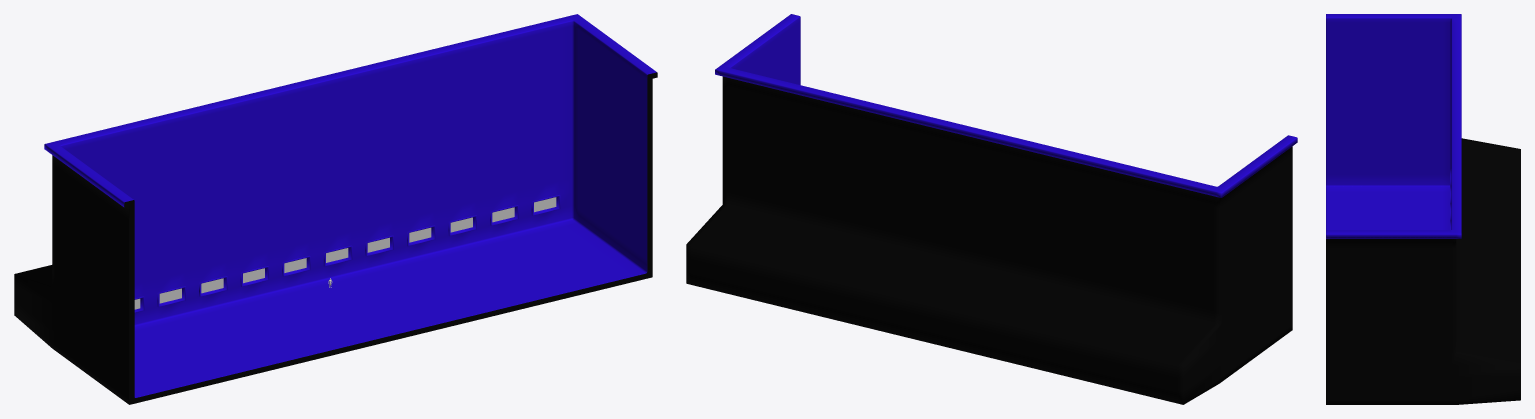
Rendered from PoolBasin 1.fbx.
3 views of the same model, side by side, from view 1: azimuth 30°, elevation 25°; view 2: azimuth 150°, elevation 25°; view 3: azimuth 270°, elevation 25° (orthographic). The views are drawn at different scales.
Parts seen in each view (by area): view 1: Cube; view 2: Cube; view 3: Cube.
Part boxes in pixels (x1,y1,x2,y2): Cube: (14,14,657,404); Cube: (686,14,1297,404); Cube: (1326,14,1520,404).
Size of the model in its own units: 10400 by 3800 by 3885.
